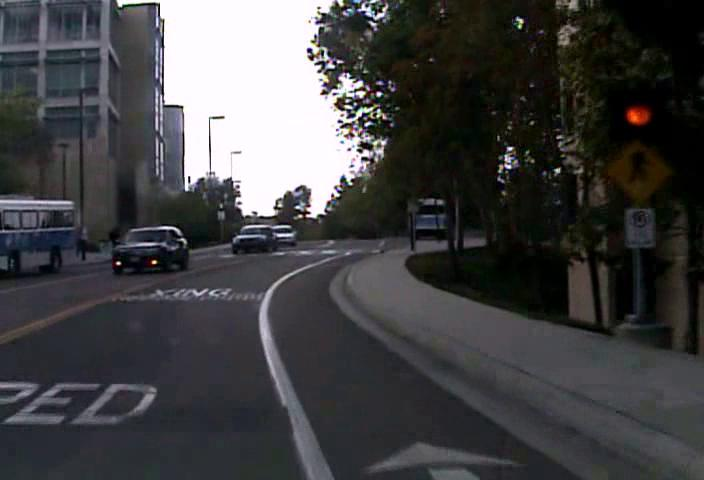pedestrianCrossing: (604, 137, 671, 205)
